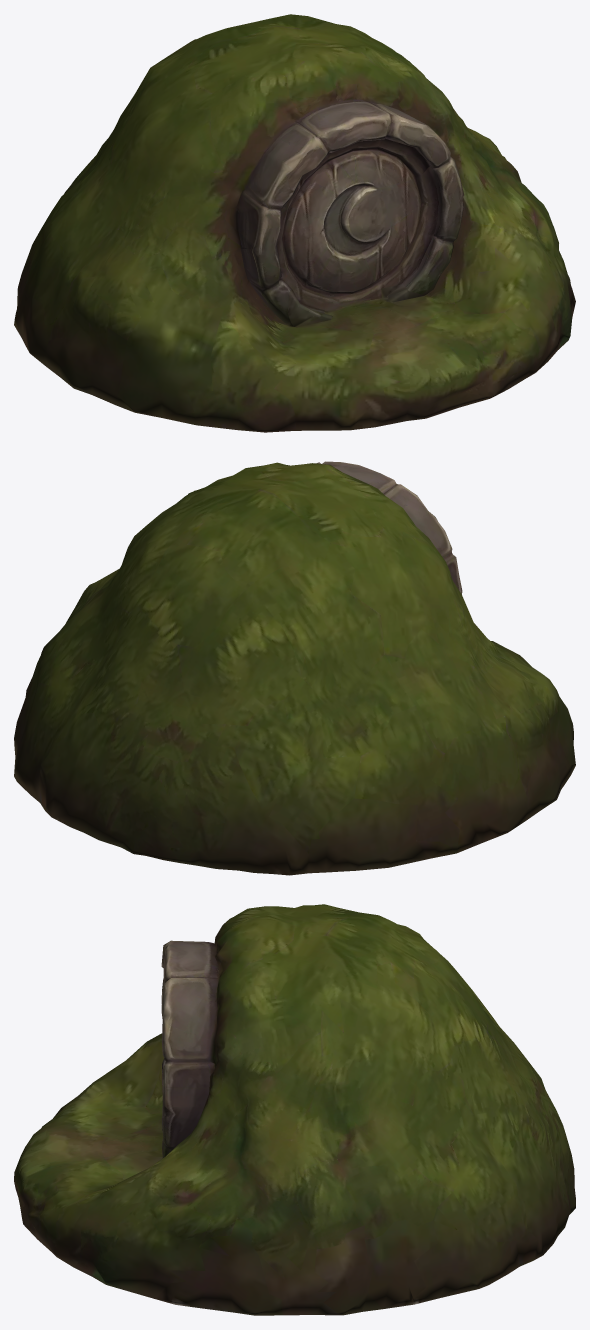
File: moondoor.glb
3 views of the same model, one above another, from view 1: azimuth 30°, elevation 25°; view 2: azimuth 150°, elevation 25°; view 3: azimuth 270°, elevation 25° (orthographic).
Bounding box in the file's own units: 1.83 × 0.9999 × 1.83.
1 material, 1 textured.
